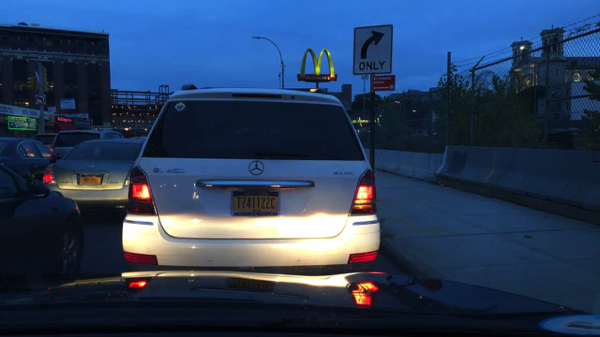car: (119, 83, 382, 280), (0, 162, 87, 288), (39, 137, 151, 223), (0, 136, 65, 186), (48, 127, 125, 162), (30, 132, 58, 152)
traffic light: (41, 66, 50, 92), (27, 76, 38, 91), (49, 115, 57, 124)
traffic sign: (352, 24, 393, 75), (371, 75, 396, 92), (35, 94, 46, 105), (47, 106, 57, 113)
